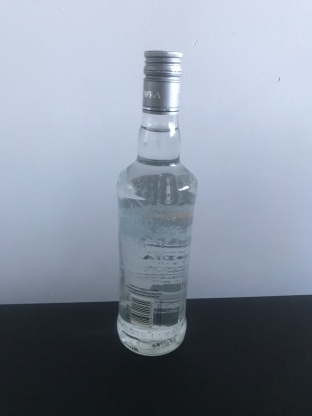nakretka: (141, 46, 184, 117)
